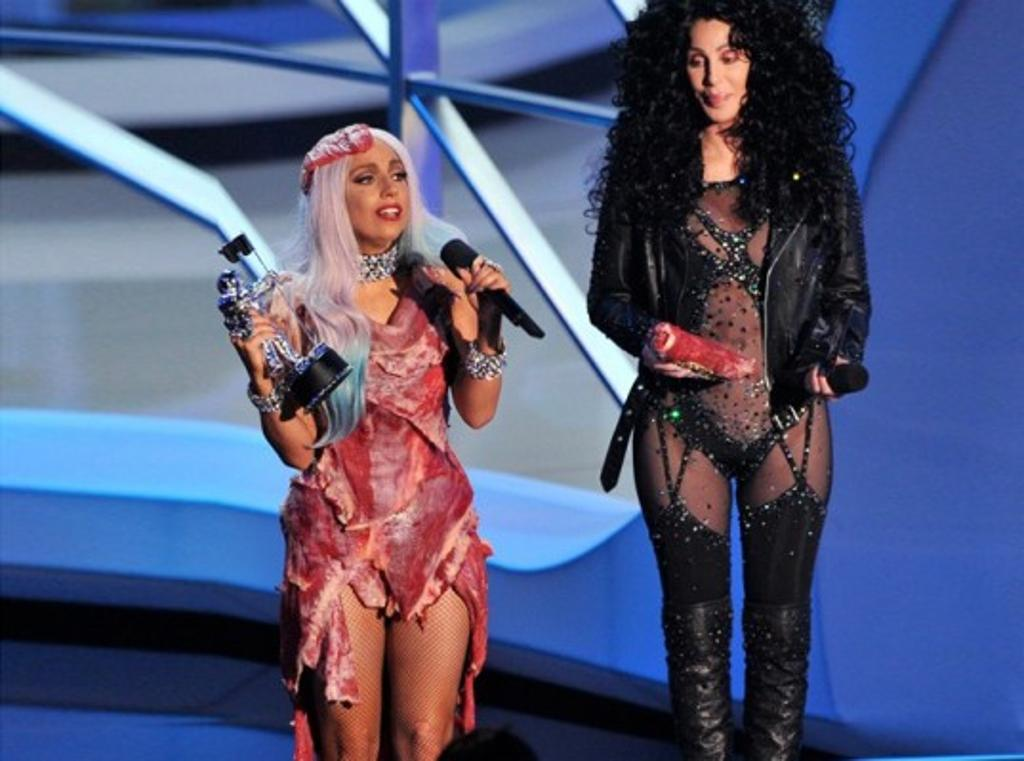face: (676, 10, 760, 120), (336, 144, 410, 238)
